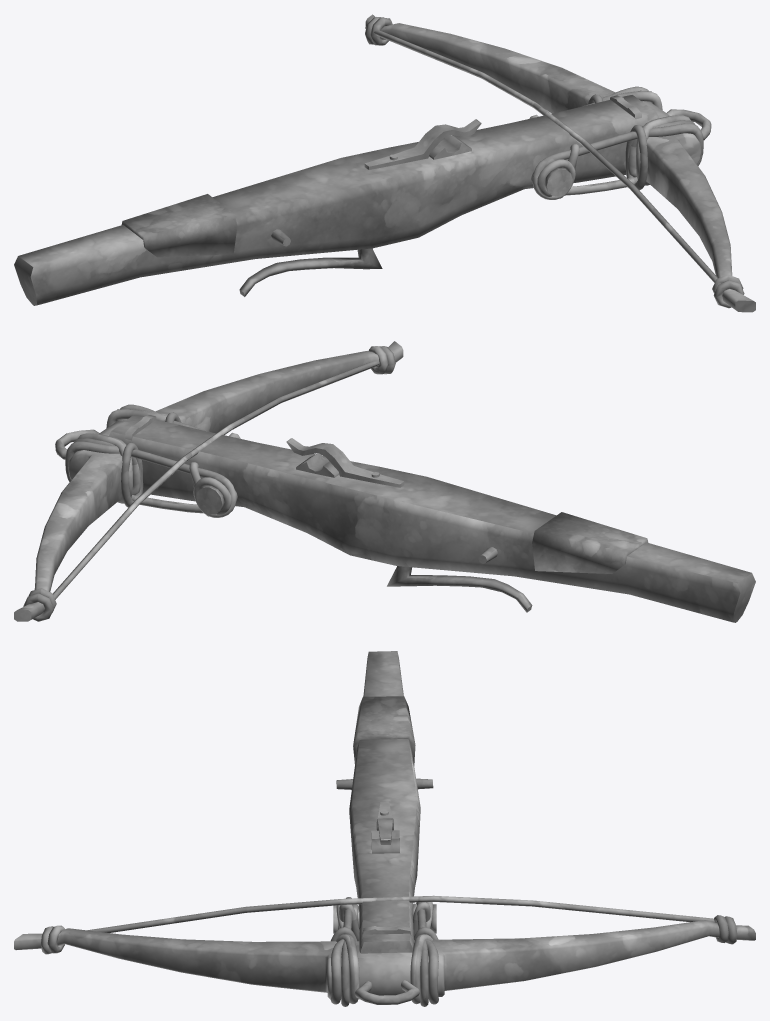
Rendered from SM_Crossbow_01a.fbx.
3 renders of one model, top to bottom at view 1: azimuth 30°, elevation 25°; view 2: azimuth 150°, elevation 25°; view 3: azimuth 270°, elevation 25°, orthographic. The views are drawn at different scales.
Parts seen in each view (by area): view 1: SM_Crossbow_01a_LOD0; view 2: SM_Crossbow_01a_LOD0; view 3: SM_Crossbow_01a_LOD0.
Boxes of the visible parts, <box> form: SM_Crossbow_01a_LOD0: <box>14,14,755,312</box>; SM_Crossbow_01a_LOD0: <box>14,341,755,622</box>; SM_Crossbow_01a_LOD0: <box>14,651,755,1006</box>.
Bounding box in the file's own units: 92.52 × 88.96 × 15.87.
